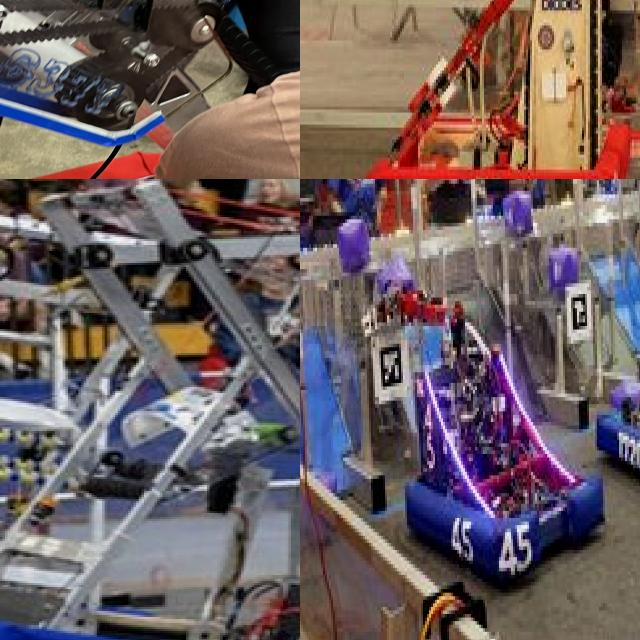FRC-Robots: (300, 179, 627, 640), (0, 179, 300, 640), (0, 179, 131, 626), (351, 0, 640, 179), (615, 17, 640, 153)
